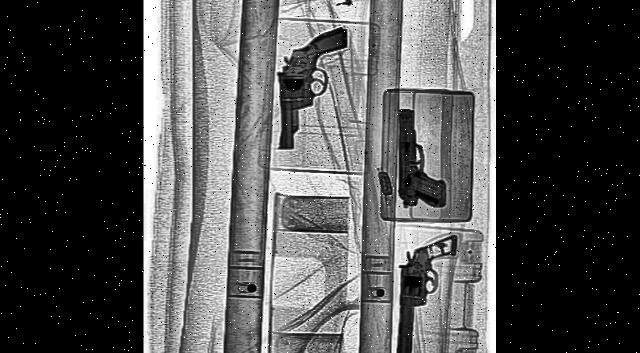Gun: (276, 26, 350, 152), (395, 226, 456, 353), (397, 108, 446, 210)
